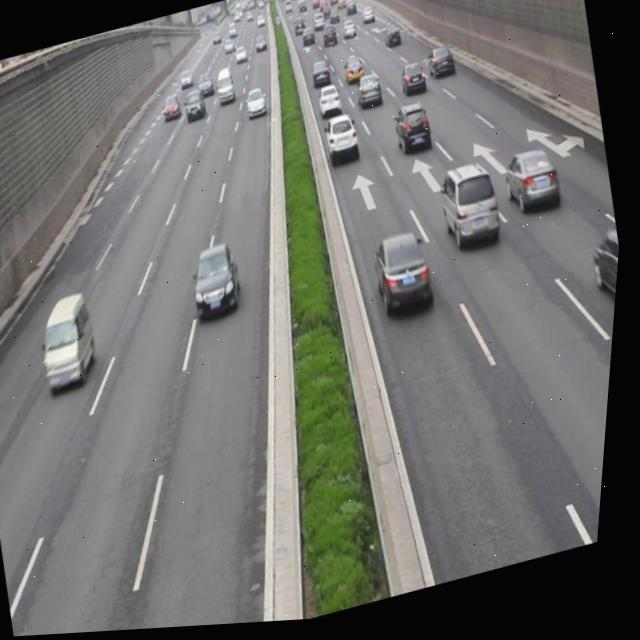car: (434, 163, 510, 262), (369, 229, 441, 322), (187, 241, 252, 328), (499, 149, 567, 227), (587, 236, 625, 327), (390, 104, 437, 163), (320, 112, 363, 168), (397, 62, 431, 105), (354, 73, 387, 114), (424, 47, 458, 85), (315, 84, 345, 122)
truck: (34, 287, 114, 399)
